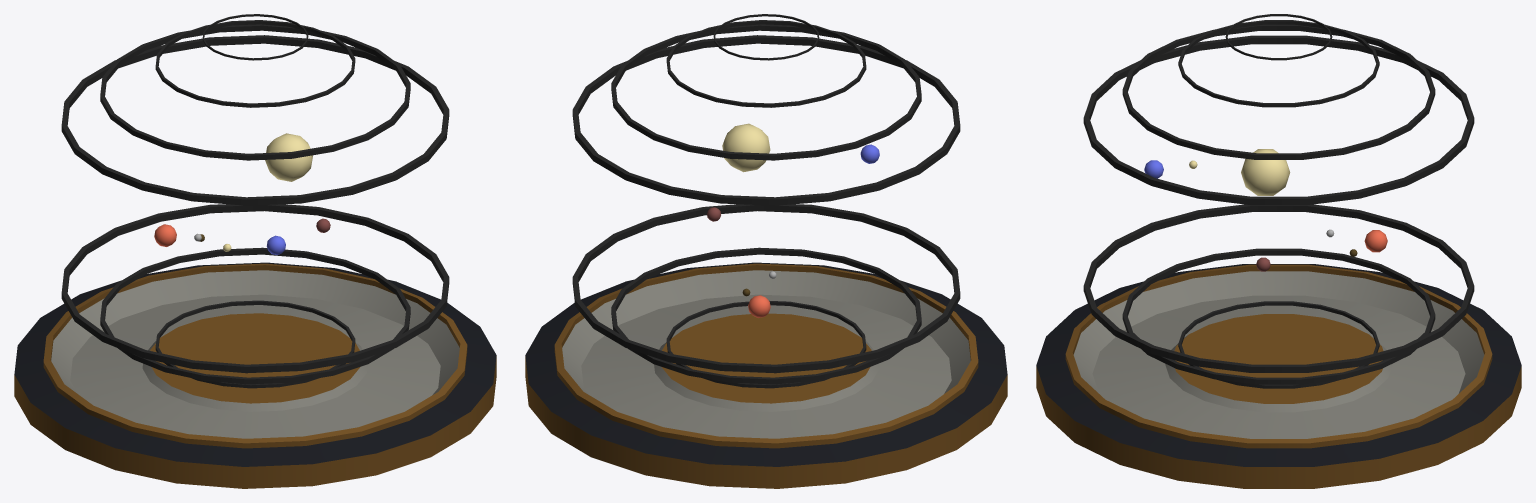
Rendered from orrery.fbx.
3 renders of one model, left to right at view 1: azimuth 30°, elevation 25°; view 2: azimuth 150°, elevation 25°; view 3: azimuth 270°, elevation 25°, orthographic.
Parts seen in each view (by area): view 1: Orrery; view 2: Orrery; view 3: Orrery.
Boxes of the visible parts, left/top/right/bottom form: Orrery: left=14, top=14, right=496, bottom=488; Orrery: left=525, top=14, right=1007, bottom=488; Orrery: left=1036, top=14, right=1521, bottom=488.
Bounding box in the file's own units: 485 × 490 × 391.
